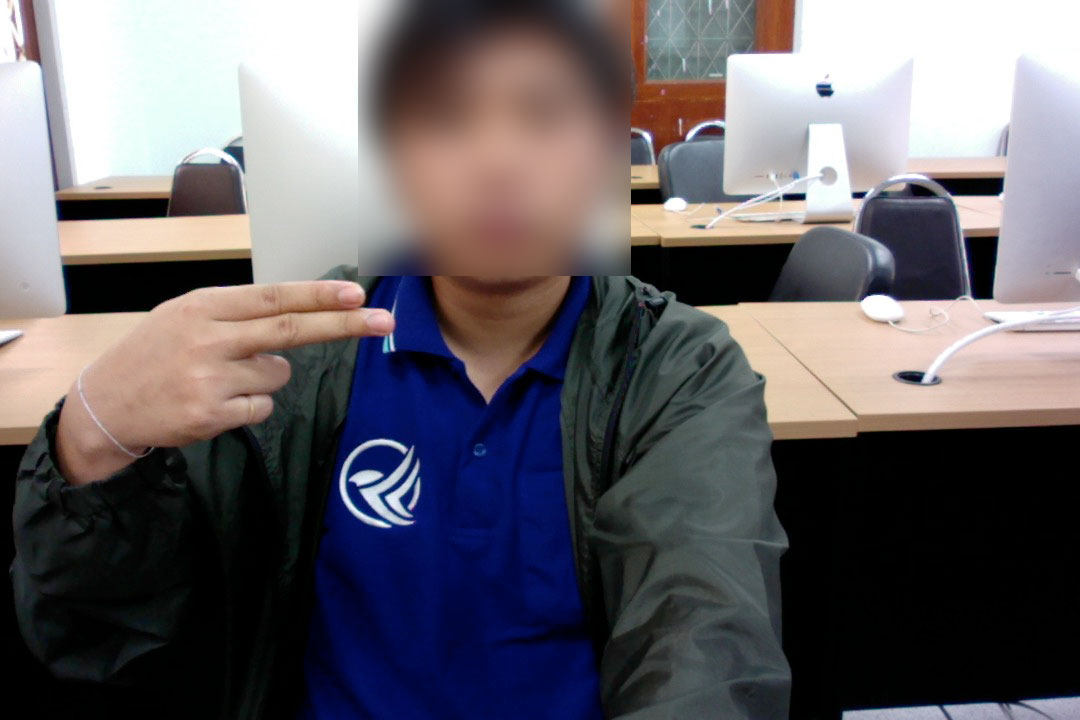hor: (33, 273, 400, 455)
